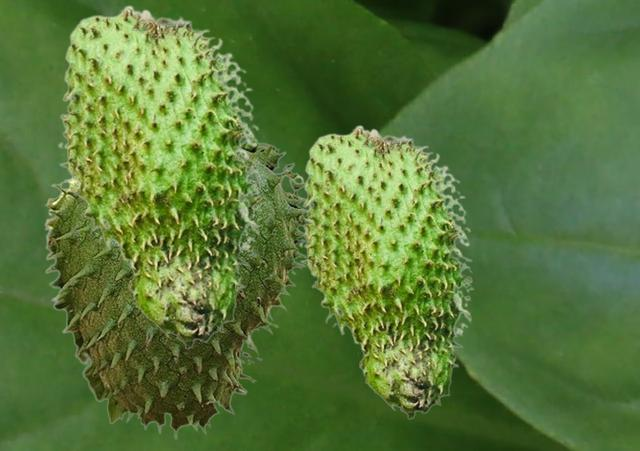guyabano: (44, 140, 314, 439), (57, 4, 263, 349), (298, 124, 474, 419)
